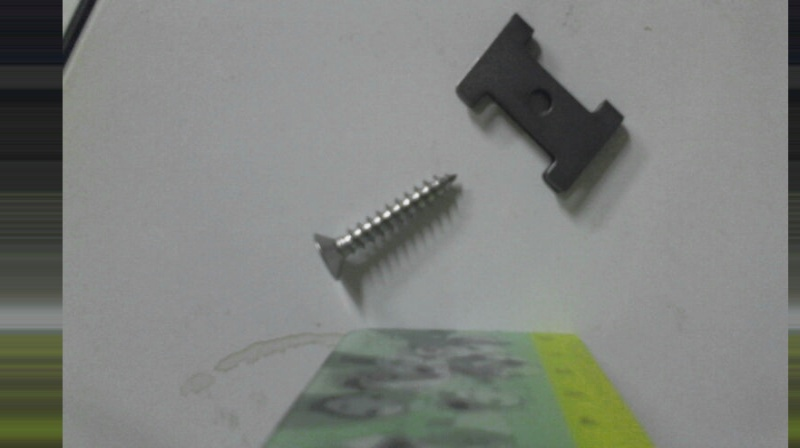O002: (451, 10, 626, 197)
S001: (307, 168, 468, 287)
